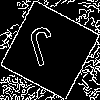J: (25, 25, 63, 76)
